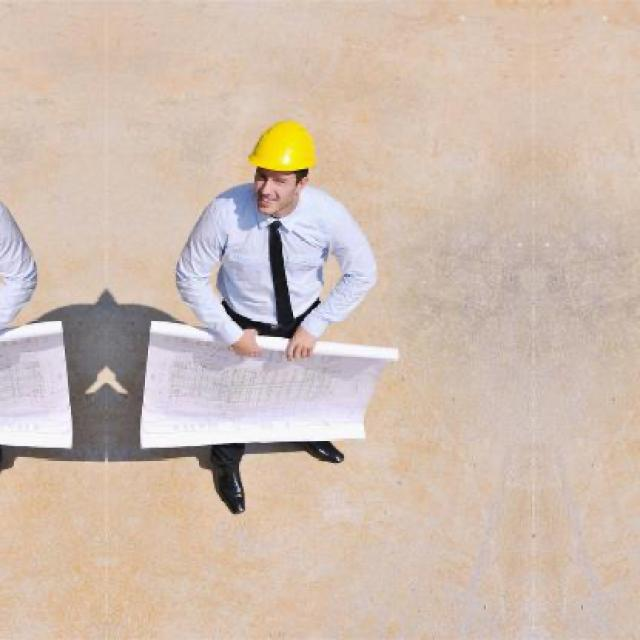helmet: (244, 110, 324, 224)
